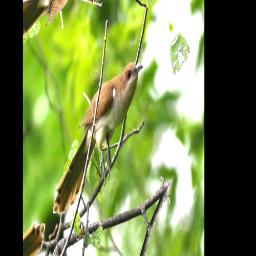Cuckoo: (41, 35, 157, 249)
